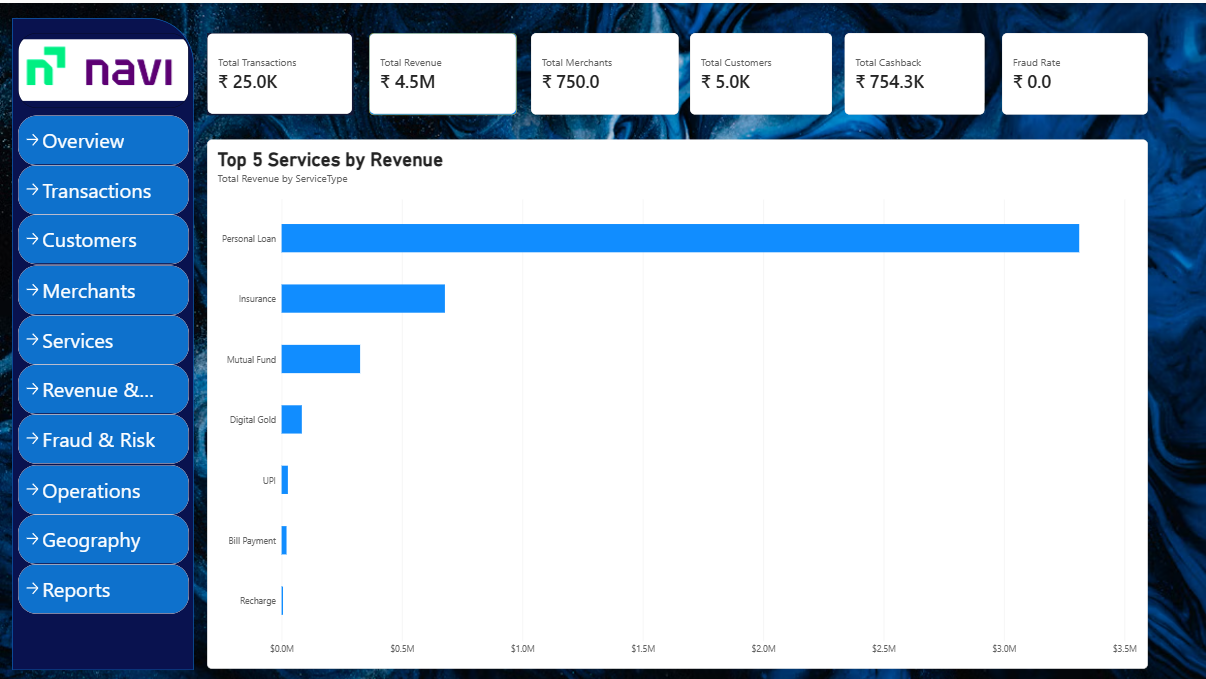

The page's visual inventory and layout, read from the dashboard file:
{"tool":"powerbi","page":{"name":"Revenue & Cashback   ","canvas":[1920,1080],"ordinal":6},"visuals":[{"type":"cardVisual","fields":{"Data":["_Measures.Total Transactions"]},"box":[328.8,48.2,232.4,130.4],"z":0},{"type":"cardVisual","fields":{"Data":["_Measures.Total Revenue"]},"box":[586.8,48.2,235.3,130.4],"z":1000},{"type":"cardVisual","fields":{"Data":["_Measures.Total Merchants"]},"box":[844.7,48.2,235.3,130.4],"z":2000},{"type":"cardVisual","fields":{"Data":["_Measures.Total Customers"]},"box":[1097,48.2,226.8,130.4],"z":3000},{"type":"cardVisual","fields":{"Data":["_Measures.Total Cashback"]},"box":[1343.6,48.2,223.9,130.4],"z":4000},{"type":"cardVisual","fields":{"Data":["_Measures.Fraud Rate"]},"box":[1593.1,48.2,232.4,130.4],"z":5000},{"type":"clusteredBarChart","title":"Top 5 Services by Revenue","fields":{"Category":["FactTransactions.ServiceType"],"Y":["_Measures.Total Revenue"]},"box":[328.8,218.3,1496.7,841.9],"z":8000},{"type":"shape","box":[19.8,22.7,289.1,1037.5],"z":16000},{"type":"image","box":[28.3,48.2,272.1,119.1],"z":17000},{"type":"actionButton","box":[28.3,178.6,272.1,79.4],"z":18000},{"type":"actionButton","box":[28.3,258,272.1,79.4],"z":19000},{"type":"actionButton","box":[28.3,734.2,272.1,79.4],"z":20000},{"type":"actionButton","box":[28.3,654.8,272.1,79.4],"z":21000},{"type":"actionButton","box":[28.3,575.4,272.1,79.4],"z":22000},{"type":"actionButton","box":[28.3,337.3,272.1,79.4],"z":23000},{"type":"actionButton","box":[28.3,416.7,272.1,79.4],"z":24000},{"type":"actionButton","box":[28.3,496.1,272.1,79.4],"z":25000},{"type":"actionButton","box":[28.3,813.5,272.1,79.4],"z":26000},{"type":"actionButton","box":[28.3,892.9,272.1,79.4],"z":27000}]}

Visuals, with their boxes in screenshot pixels (x1, y1, x2, y2), scaled from the page's 1920x1080 canvas onto the 1206x679 screenshot:
cardVisual - _Measures.Total Transactions: locate(207, 30, 353, 112)
cardVisual - _Measures.Total Revenue: locate(369, 30, 516, 112)
cardVisual - _Measures.Total Merchants: locate(531, 30, 678, 112)
cardVisual - _Measures.Total Customers: locate(689, 30, 832, 112)
cardVisual - _Measures.Total Cashback: locate(844, 30, 985, 112)
cardVisual - _Measures.Fraud Rate: locate(1001, 30, 1147, 112)
"Top 5 Services by Revenue" clusteredBarChart: locate(207, 137, 1147, 667)
shape: locate(12, 14, 194, 667)
image: locate(18, 30, 189, 105)
actionButton: locate(18, 112, 189, 162)
actionButton: locate(18, 162, 189, 212)
actionButton: locate(18, 462, 189, 512)
actionButton: locate(18, 412, 189, 462)
actionButton: locate(18, 362, 189, 412)
actionButton: locate(18, 212, 189, 262)
actionButton: locate(18, 262, 189, 312)
actionButton: locate(18, 312, 189, 362)
actionButton: locate(18, 511, 189, 561)
actionButton: locate(18, 561, 189, 611)
